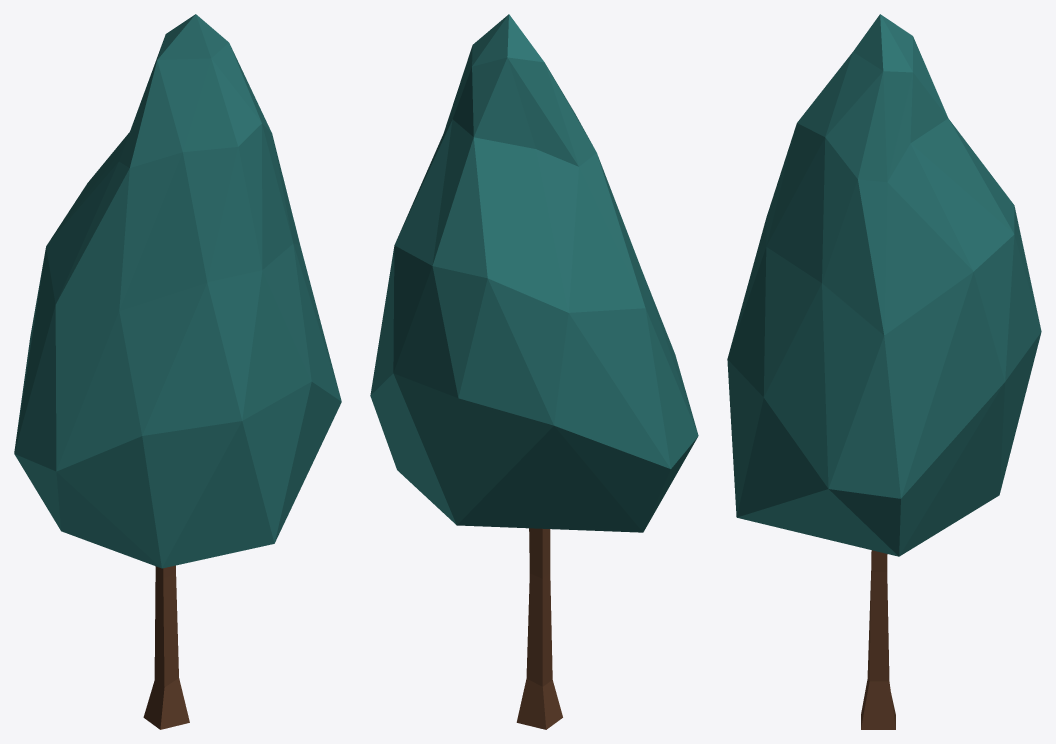
The model's file is Tree_37_Blue.fbx.
The picture shows the model from 3 angles, left to right: view 1: azimuth 30°, elevation 25°; view 2: azimuth 150°, elevation 25°; view 3: azimuth 270°, elevation 25°; orthographic projection. The views are drawn at different scales.
Parts seen in each view (by area): view 1: Tree_37_Blue_Part_1, Tree_37_Blue_Part_2; view 2: Tree_37_Blue_Part_1, Tree_37_Blue_Part_2; view 3: Tree_37_Blue_Part_1, Tree_37_Blue_Part_2.
Part boxes in pixels (box(x1,y1,x2,y2)): Tree_37_Blue_Part_1: box(14, 14, 341, 568); Tree_37_Blue_Part_2: box(143, 565, 189, 729); Tree_37_Blue_Part_1: box(370, 14, 698, 532); Tree_37_Blue_Part_2: box(516, 528, 562, 729); Tree_37_Blue_Part_1: box(727, 14, 1041, 556); Tree_37_Blue_Part_2: box(861, 550, 895, 729).
Bounding box in the file's own units: 358 × 797 × 314.
